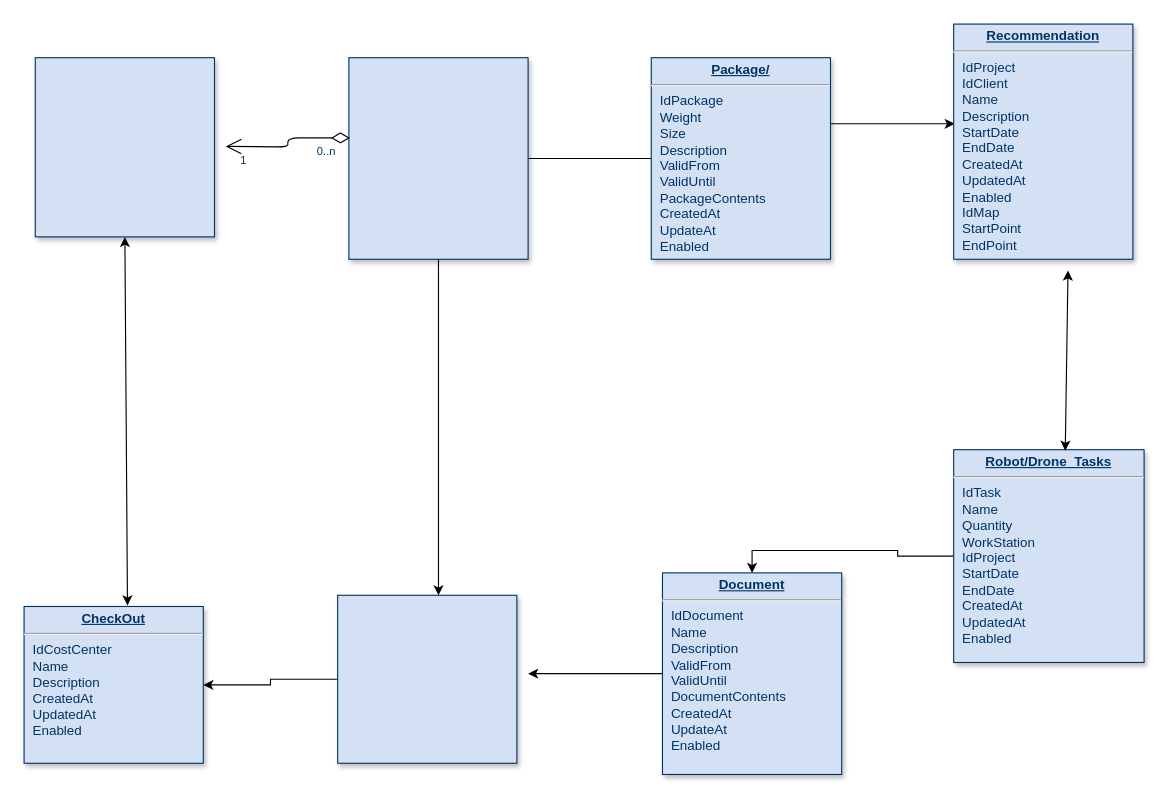
The diagram is 1170 pixels wide and 802 high, and some of its shapes have lost their labels. The shapes that lost their labels are listed below. From the top down, each one's centre as x and y in pixels, then its label:
At point 125,148: "Login User_id email Name Description ValidUntil CreatedAt UpdatedAt Enabled".
At point 439,159: "User IdUser Name LastName Email UserName Password CreatedAt UpdatedAt Enabled".
At point 428,680: "Client IdClient IdCompany Name Description CreatedAt UpdatedAt Enabled".
